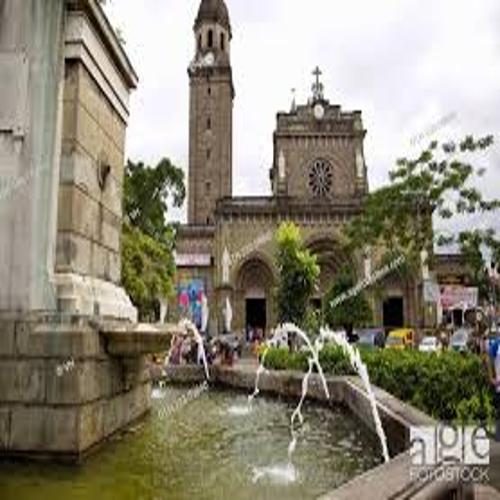Manila Cathedral Church: (169, 1, 465, 375)
